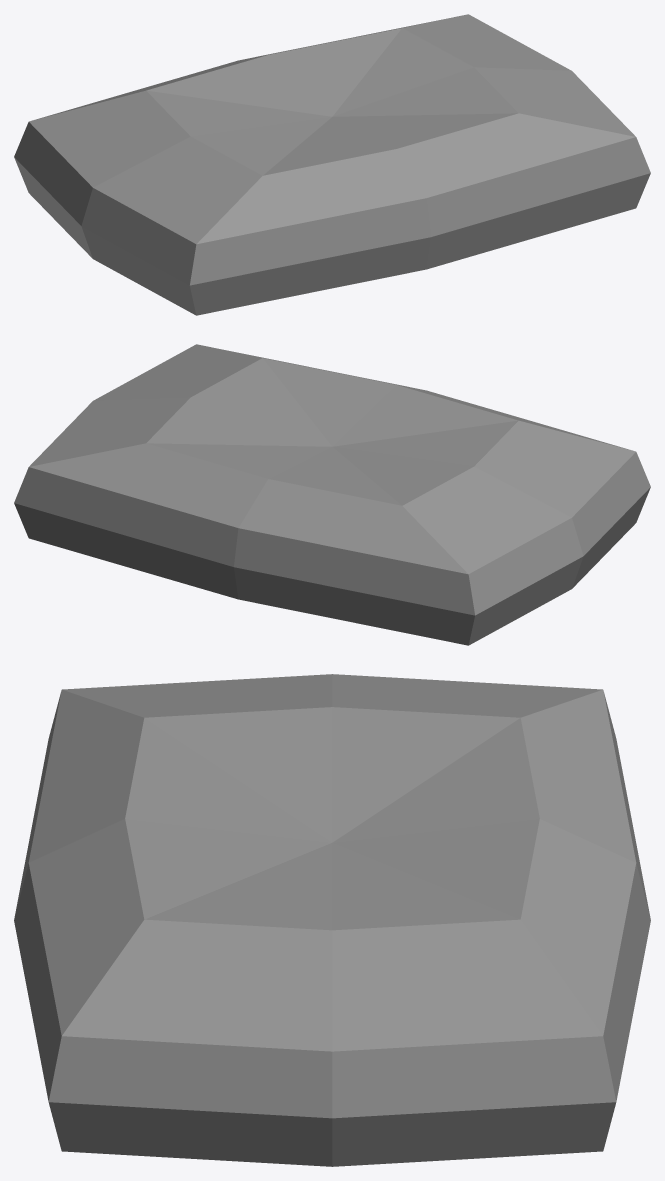
Rendered from Itr_Bed_Pillow_05.FBX.
The picture shows the model from 3 angles, top to bottom: view 1: azimuth 30°, elevation 25°; view 2: azimuth 150°, elevation 25°; view 3: azimuth 270°, elevation 25°; orthographic projection. The views are drawn at different scales.
Visible parts, largest first — view 1: Itr_Bed_Pillow_05; view 2: Itr_Bed_Pillow_05; view 3: Itr_Bed_Pillow_05.
Part boxes in pixels (<box>): Itr_Bed_Pillow_05: <box>14,14,650,315</box>; Itr_Bed_Pillow_05: <box>14,344,650,645</box>; Itr_Bed_Pillow_05: <box>14,674,650,1166</box>.
Size of the model in its own units: 21.39 by 4.02 by 14.55.
